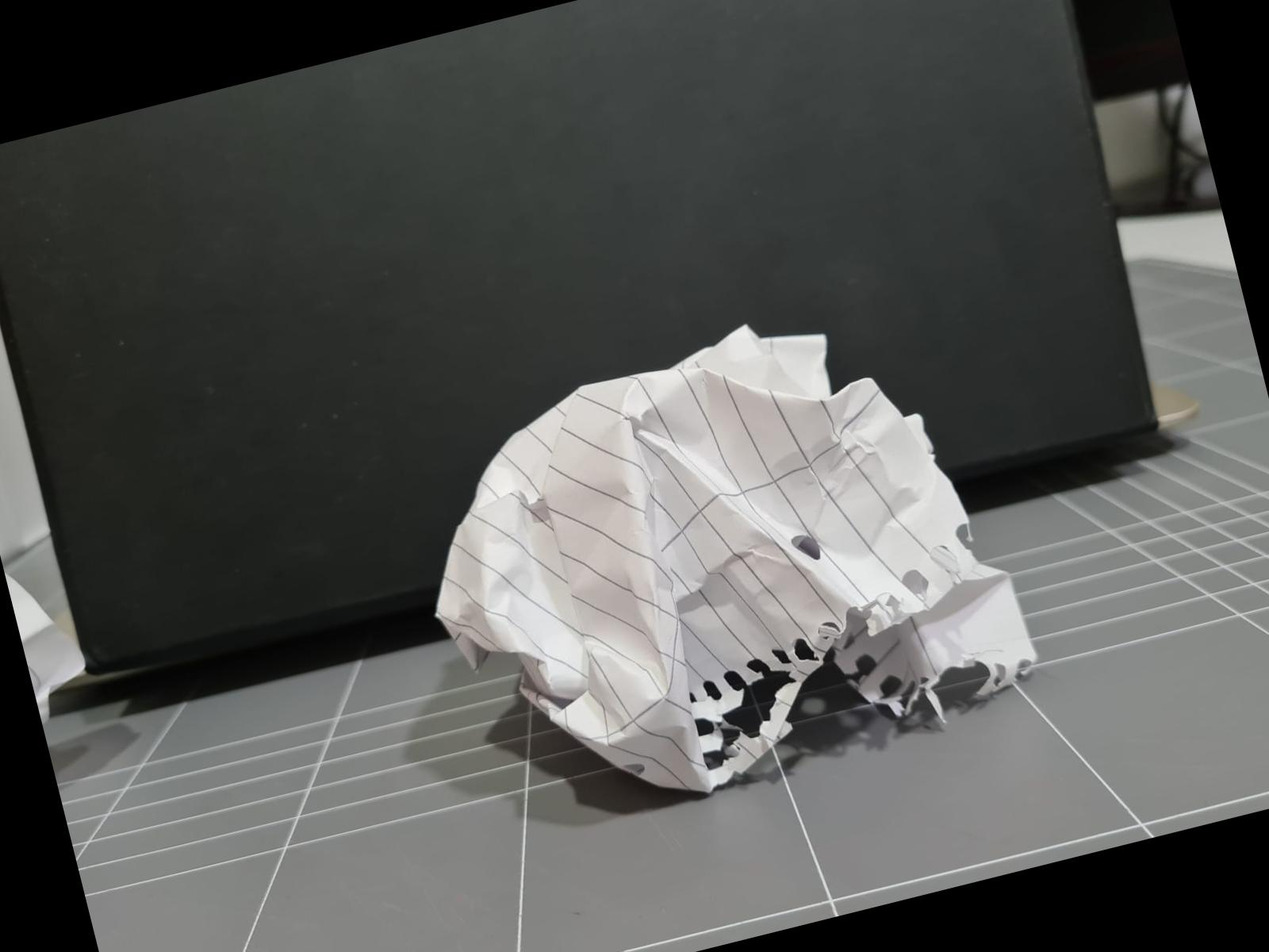Kertas: (436, 326, 1033, 791)
